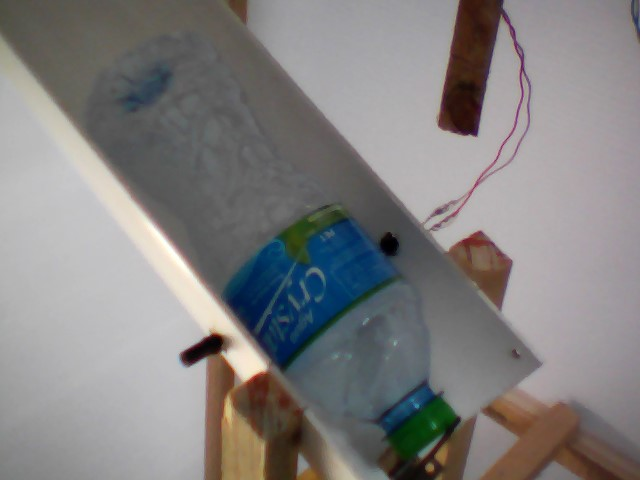plastico: (86, 24, 470, 467)
